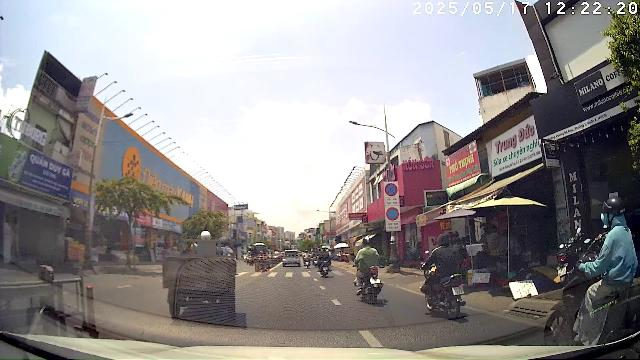130-cam-dung-va-do-xe: (384, 184, 398, 197)
131a-cam-do-xe: (386, 207, 399, 221)
